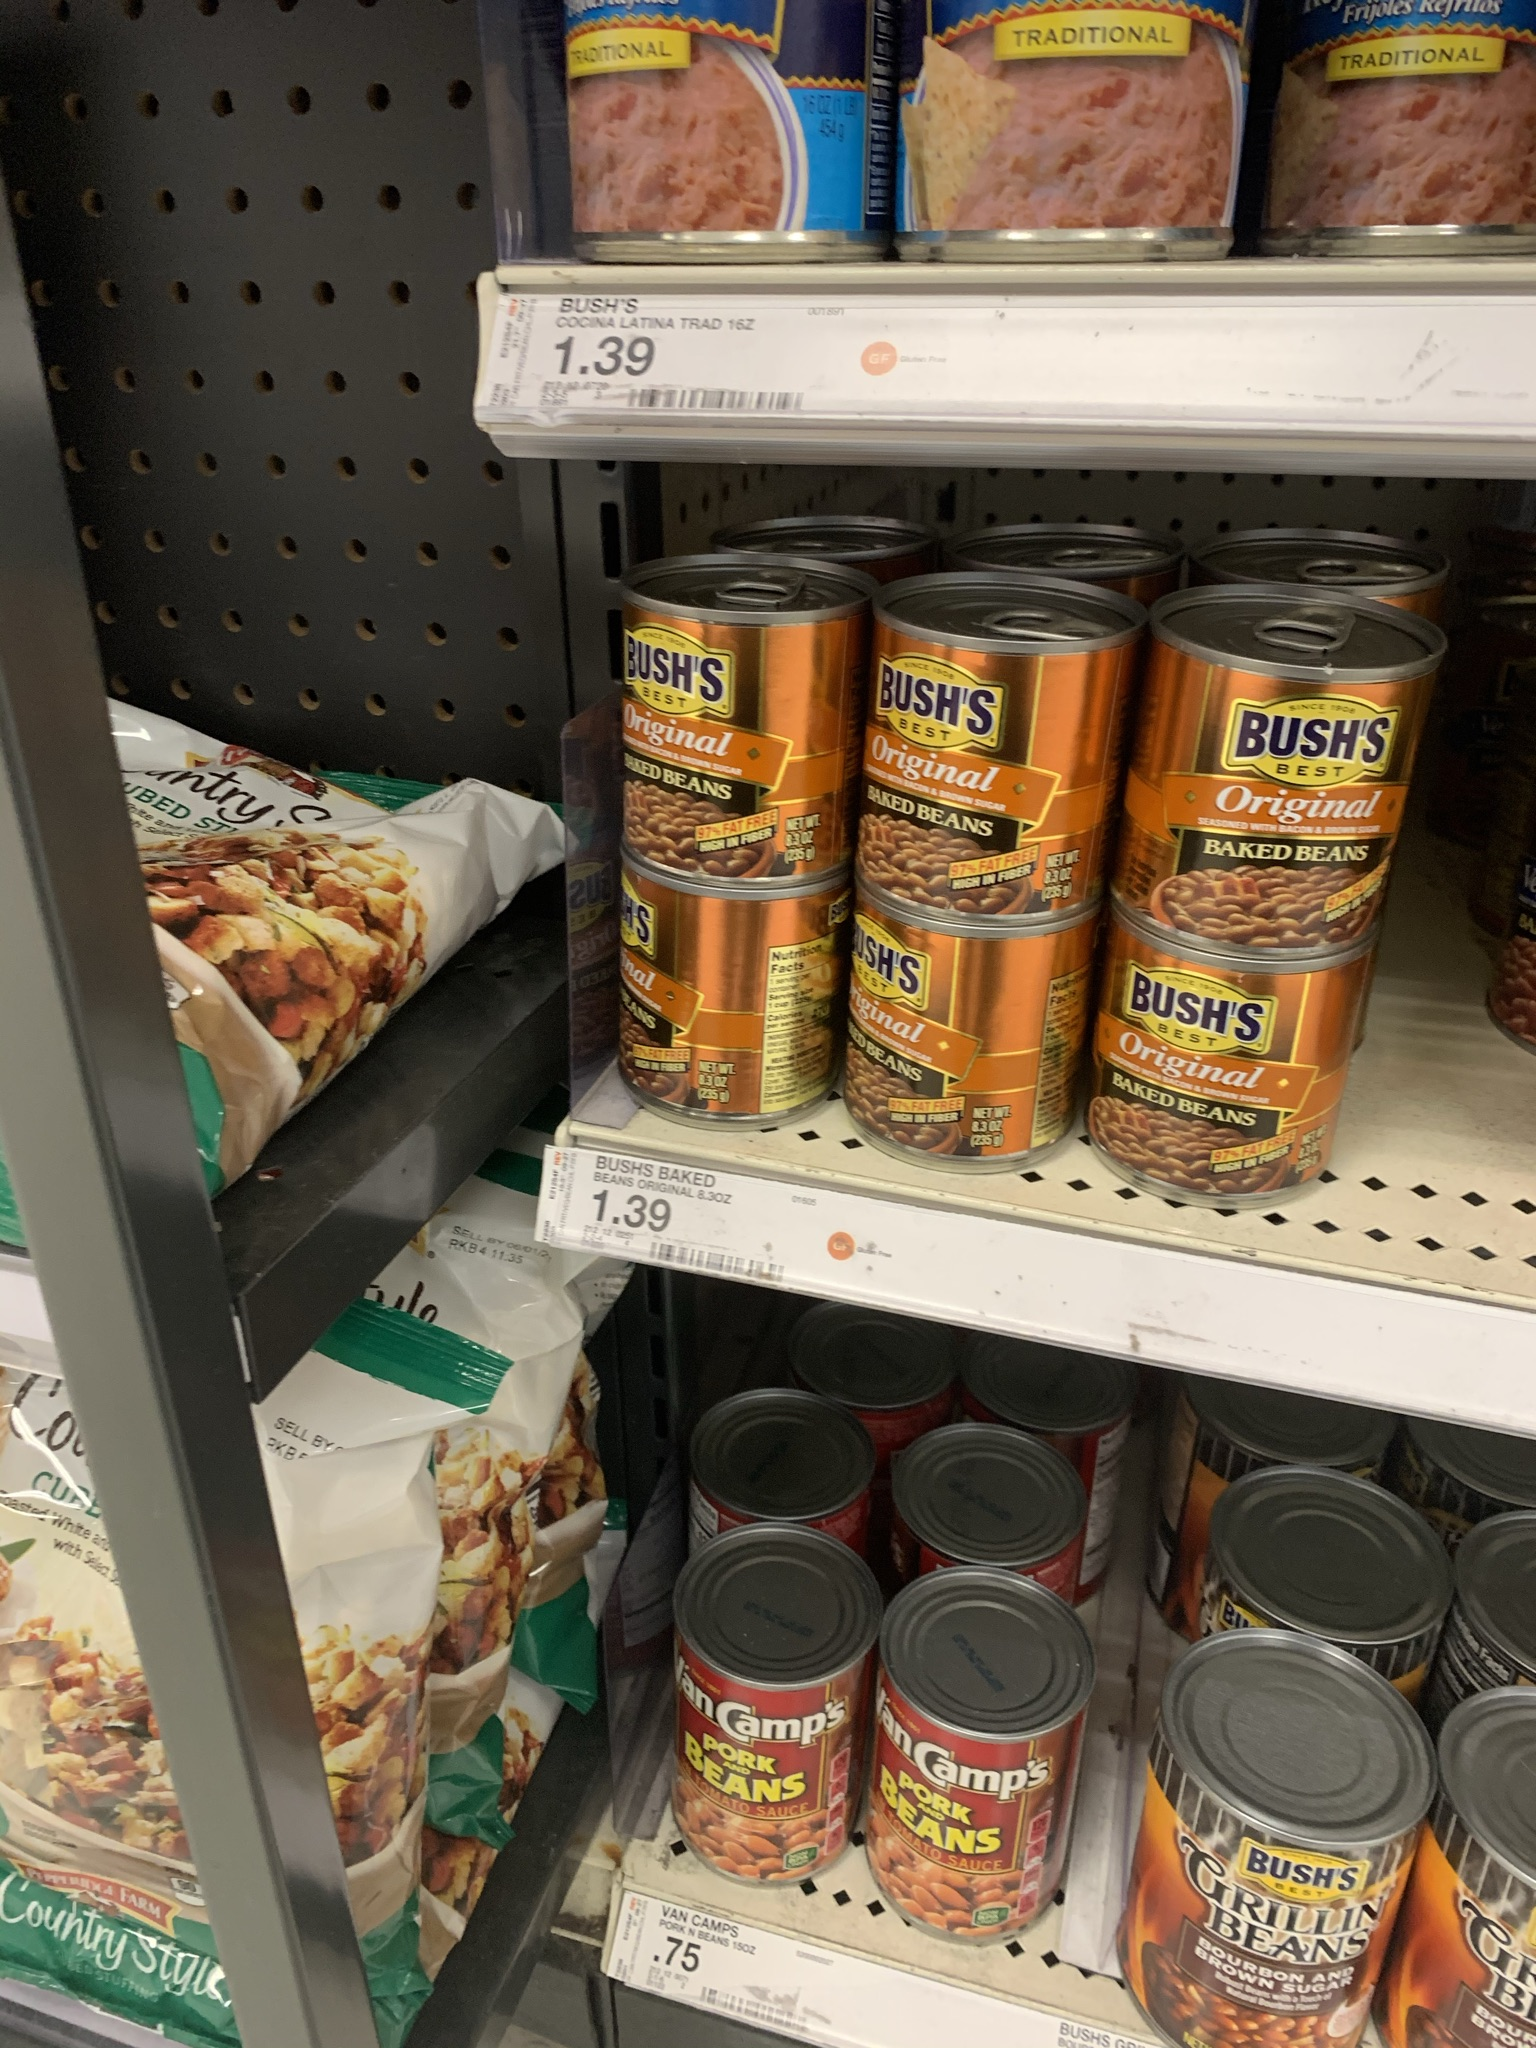can: (1139, 614, 1379, 918), (879, 593, 1108, 901), (626, 584, 857, 861), (1176, 1713, 1375, 2032), (881, 1634, 1054, 1925), (631, 885, 831, 1121), (1107, 966, 1333, 1172), (849, 932, 1079, 1130), (678, 1598, 847, 1863)
